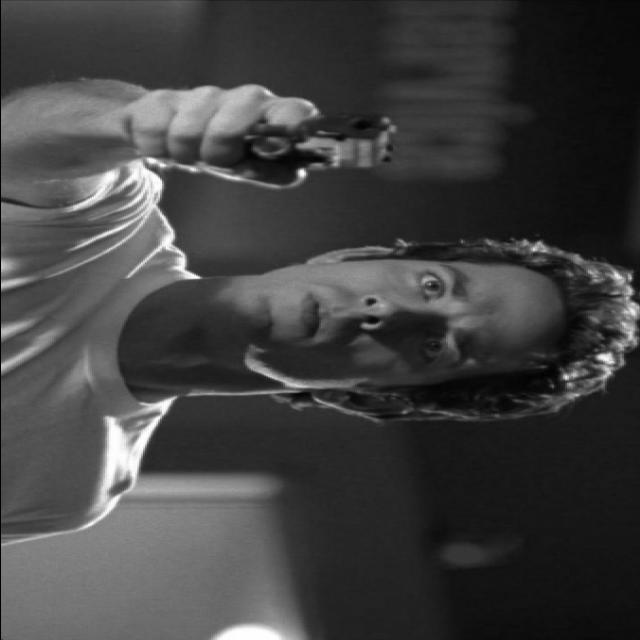weapons: (120, 91, 422, 188)
